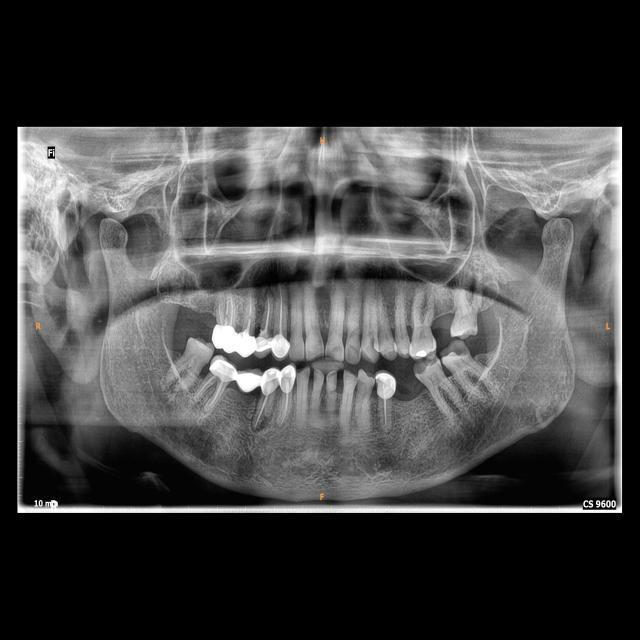dentin-curugu: (443, 338, 470, 362), (415, 356, 441, 375)
kanal-tedavisi: (197, 377, 223, 408), (217, 295, 237, 327), (255, 396, 272, 426), (243, 294, 256, 332), (260, 296, 272, 334), (275, 283, 284, 332), (282, 392, 292, 432), (380, 397, 392, 428)
kaplama: (210, 324, 239, 352), (210, 357, 237, 383), (260, 366, 280, 398), (376, 371, 397, 399), (271, 331, 291, 358), (278, 364, 298, 390), (238, 330, 256, 358), (254, 332, 274, 354)
kopru: (228, 365, 272, 396)
